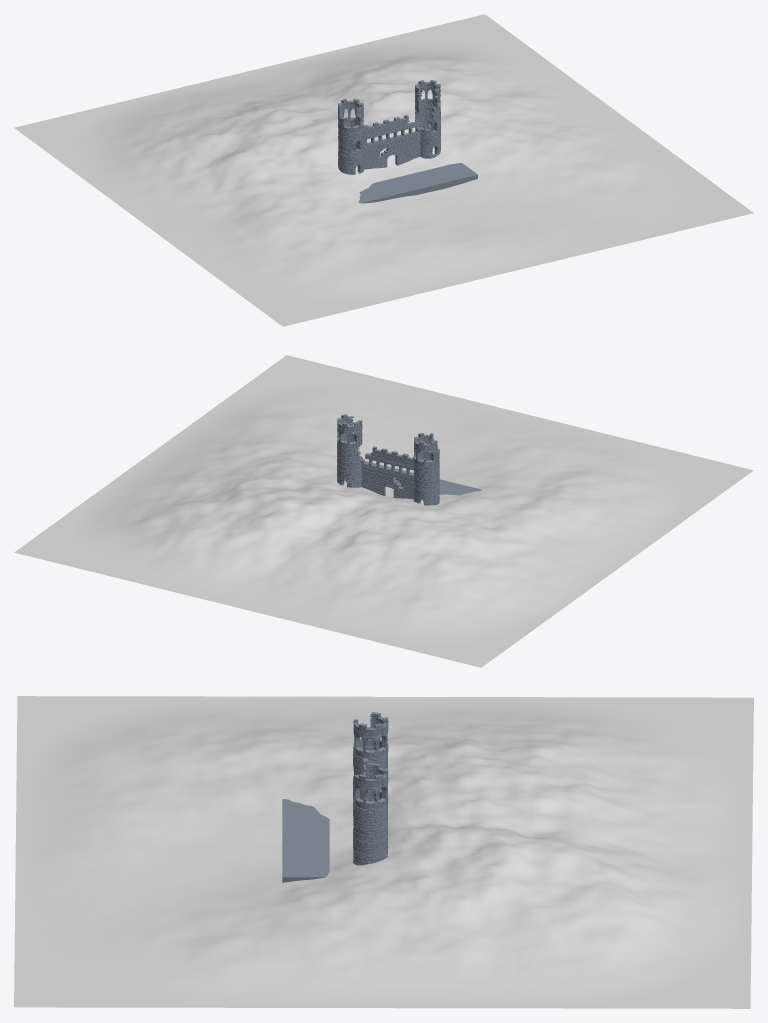
Rendered from Decor.fbx.
3 views of the same model, one above another, from view 1: azimuth 30°, elevation 25°; view 2: azimuth 150°, elevation 25°; view 3: azimuth 270°, elevation 25° (orthographic). The views are drawn at different scales.
Parts seen in each view (by area): view 1: Landscape, Cube, Wall.012, Wall.013, Wall.008, Wall.002, Wall.003, Wall.006; view 2: Landscape, Wall.012, Wall.013, Wall.008, Wall.003, Wall.006, Wall.002; view 3: Landscape, Cube, Wall.003, Wall.008, Wall.002, Wall.001.
Part boxes in pixels (left/top/right/bottom): Landscape: left=14, top=14, right=753, bottom=326; Cube: left=358, top=163, right=477, bottom=203; Wall.012: left=363, top=115, right=423, bottom=150; Wall.013: left=364, top=137, right=420, bottom=169; Wall.008: left=338, top=98, right=363, bottom=132; Wall.002: left=415, top=104, right=440, bottom=137; Wall.003: left=415, top=80, right=440, bottom=112; Wall.006: left=338, top=123, right=363, bottom=156; Landscape: left=14, top=355, right=753, bottom=667; Wall.012: left=359, top=446, right=413, bottom=480; Wall.013: left=361, top=468, right=413, bottom=499; Wall.008: left=414, top=433, right=439, bottom=466; Wall.003: left=337, top=414, right=362, bottom=447; Wall.006: left=414, top=457, right=439, bottom=490; Wall.002: left=337, top=438, right=362, bottom=471; Landscape: left=14, top=696, right=753, bottom=1008; Cube: left=282, top=799, right=329, bottom=882; Wall.003: left=353, top=763, right=388, bottom=809; Wall.008: left=353, top=712, right=388, bottom=758; Wall.002: left=353, top=798, right=387, bottom=841; Wall.001: left=353, top=835, right=388, bottom=865.
Size of the model in its own units: 31374 by 5050 by 31374.
